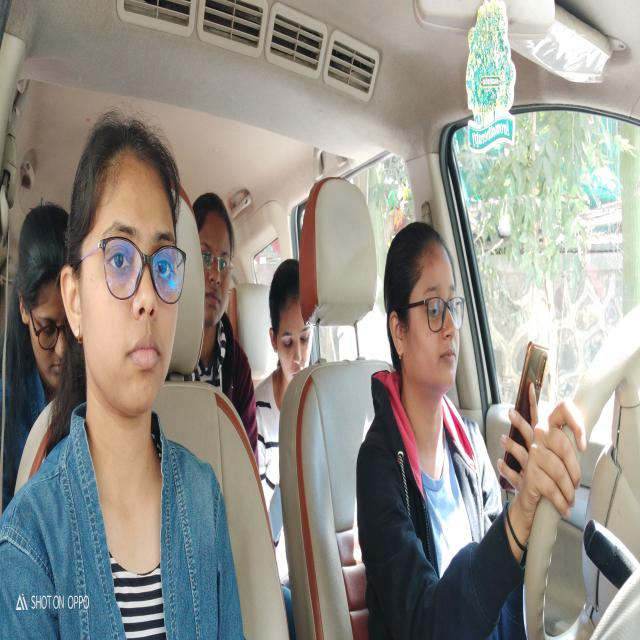mobile: (499, 333, 544, 491)
person: (72, 134, 180, 410), (385, 237, 465, 395), (13, 213, 68, 382), (270, 260, 314, 380), (199, 194, 234, 335)
